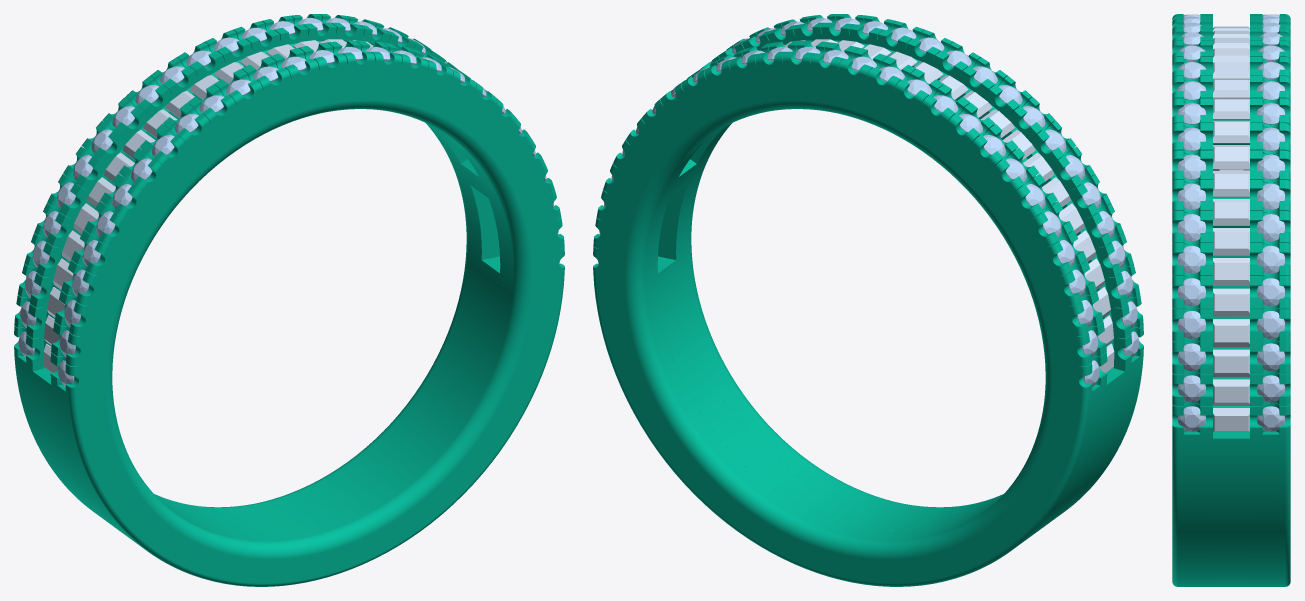
3 renders of one model, left to right at view 1: azimuth 30°, elevation 25°; view 2: azimuth 150°, elevation 25°; view 3: azimuth 270°, elevation 25°, orthographic.
Visible parts, largest first — view 1: 6482-DIV 1 - RPT(front).3dm; view 2: 6482-DIV 1 - RPT(front).3dm; view 3: 6482-DIV 1 - RPT(front).3dm, Diamond_Round (×32), Diamond_Baguette Straight (×18).
Part boxes in pixels (x1=…): 6482-DIV 1 - RPT(front).3dm: x1=14, y1=14, x2=564, y2=586; 6482-DIV 1 - RPT(front).3dm: x1=593, y1=14, x2=1143, y2=586; 6482-DIV 1 - RPT(front).3dm: x1=1172, y1=14, x2=1290, y2=586; Diamond_Round (×32): x1=1178, y1=22, x2=1284, y2=431; Diamond_Baguette Straight (×18): x1=1213, y1=26, x2=1249, y2=431.
Bounding box in the file's own units: 2.8 × 2.8 × 0.5791.
